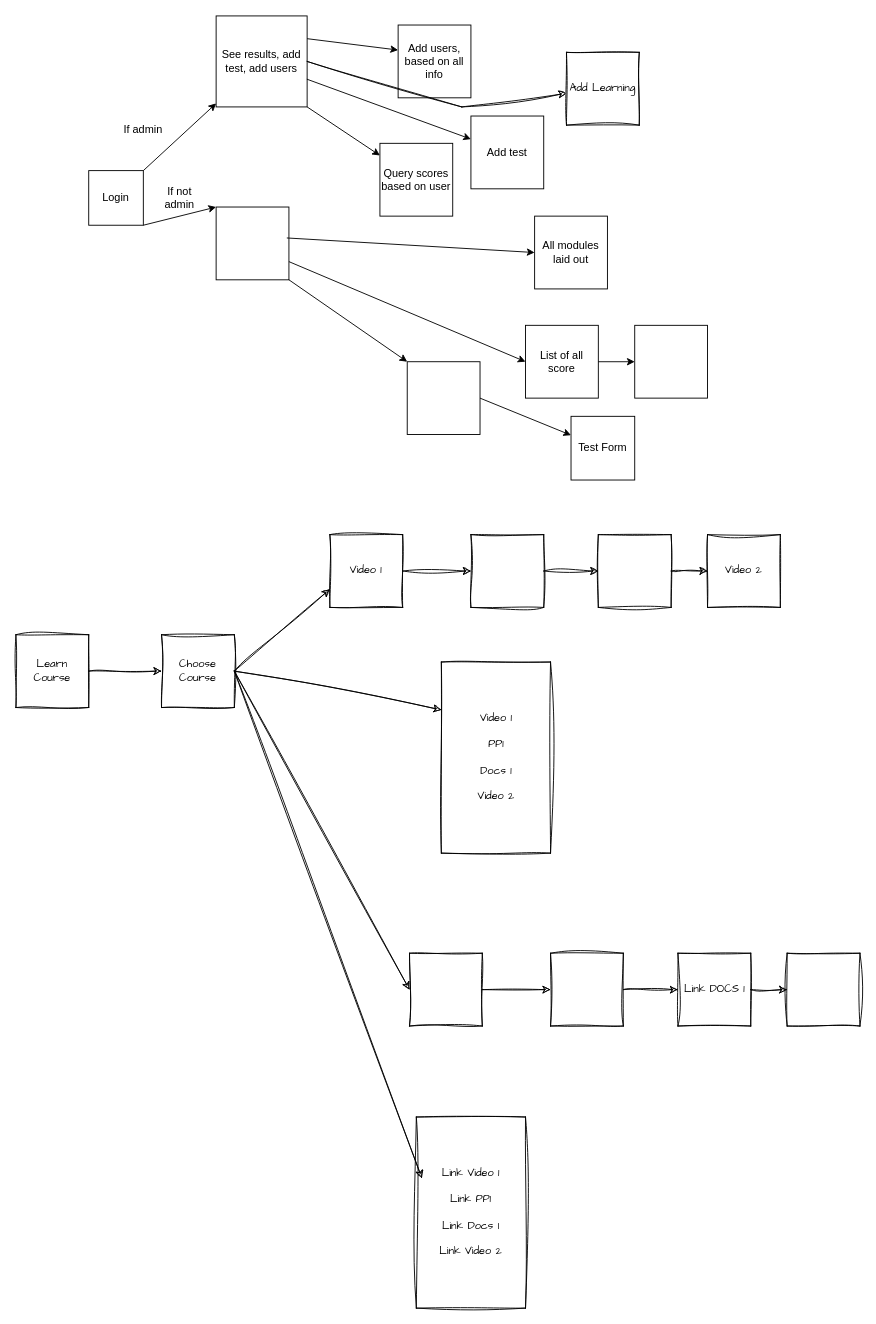
The diagram is 876 pixels wide and 1324 high, and some of its shapes have lost their labels. Here are the shapes that lost their labels. From the top down, the box of each, then its label:
(215, 206, 289, 280): Take test View own score review material
(634, 324, 708, 398): Link to the website with info
(406, 361, 480, 435): Modules laid out dynamically
(470, 534, 544, 607): PPT1
(597, 534, 671, 607): DOCS 1
(409, 952, 482, 1026): Link Video 1
(550, 952, 623, 1026): Link PPT1
(786, 952, 860, 1026): Link Video 2
